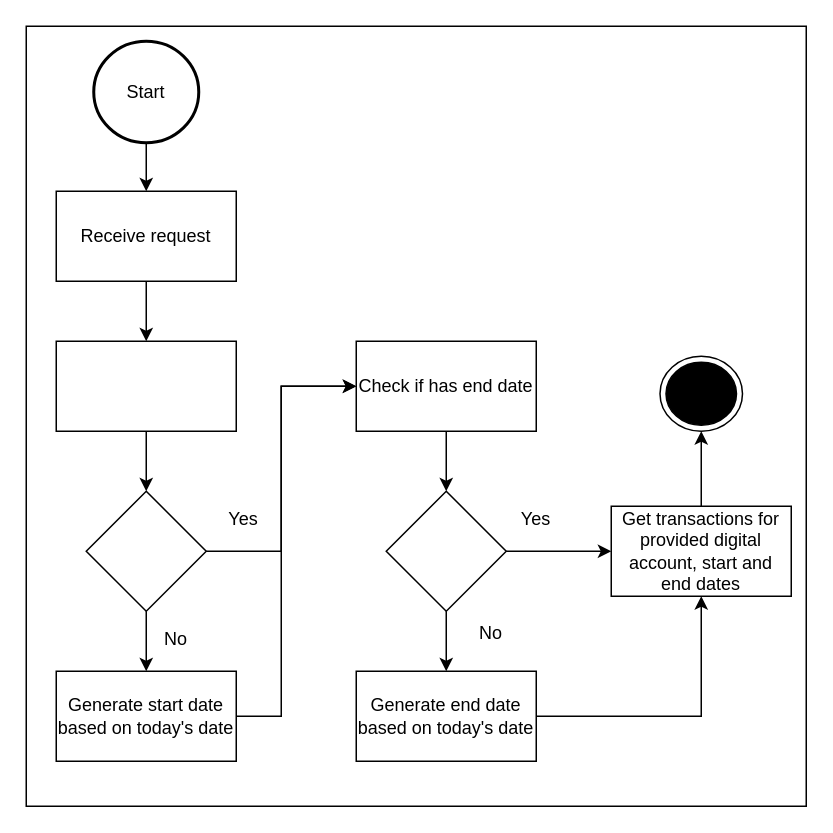
Some shapes in this 833 by 833 pixel diagram are drawn without their labels. Each missing label, with the centre of its shape:
Check if has start date: [145,385]
Has End Date?: [445,550]
Has Start Date?: [145,550]
